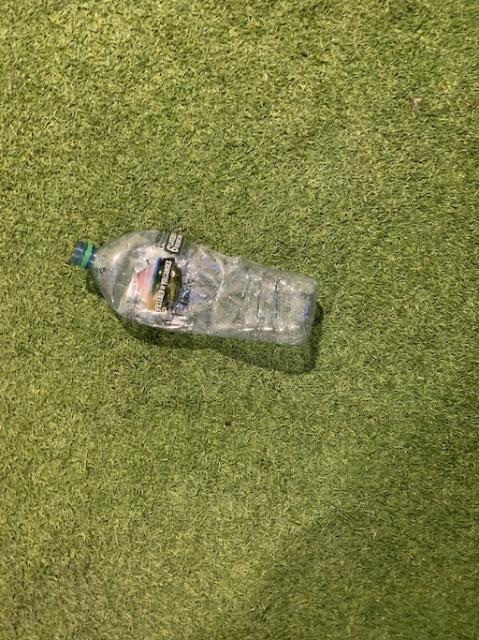plastic: (70, 230, 317, 342)
